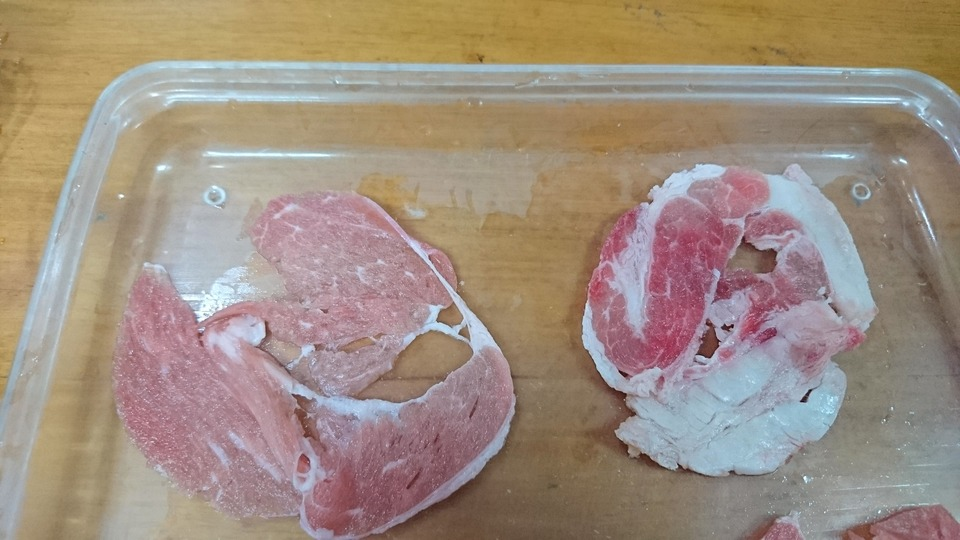restructured meat: (121, 200, 519, 520), (579, 146, 856, 478)
